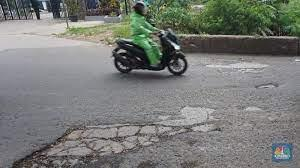Pothole: (2, 107, 282, 168), (222, 55, 280, 109)
